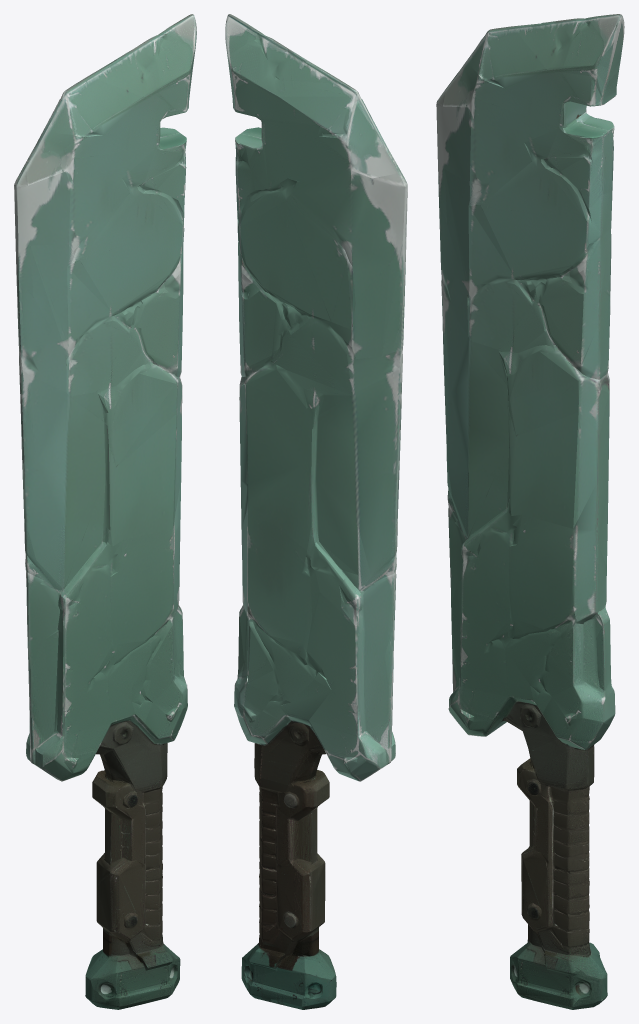
File: Crimson_Blade.glb
3 views of the same model, side by side, from view 1: azimuth 30°, elevation 25°; view 2: azimuth 150°, elevation 25°; view 3: azimuth 330°, elevation 25° (orthographic). The views are drawn at different scales.
Parts seen in each view (by area): view 1: Crimson_Blade; view 2: Crimson_Blade; view 3: Crimson_Blade.
Part boxes in pixels (bbox=[...]): Crimson_Blade: bbox=[14, 14, 196, 1009]; Crimson_Blade: bbox=[225, 14, 407, 1009]; Crimson_Blade: bbox=[436, 14, 624, 1009].
Bounding box in the file's own units: 1.93 × 10 × 0.5776.
Materials: 1 (1 with a texture image).
